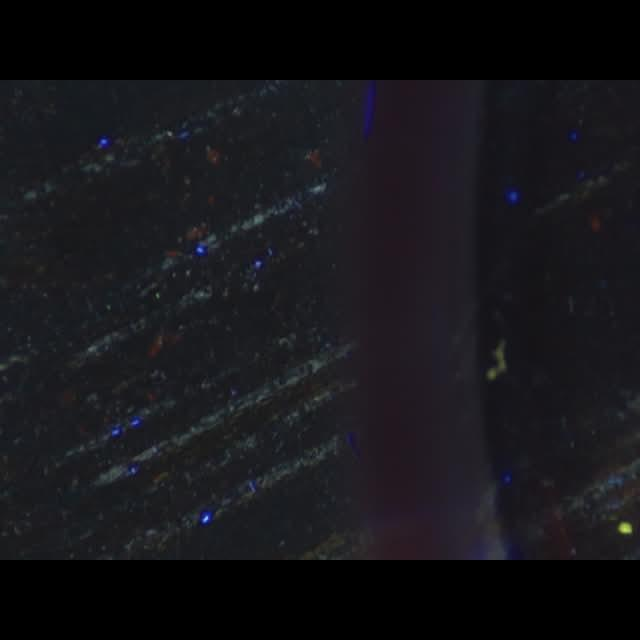Fibre: (488, 340, 510, 380)
microbeads: (618, 520, 634, 534)
